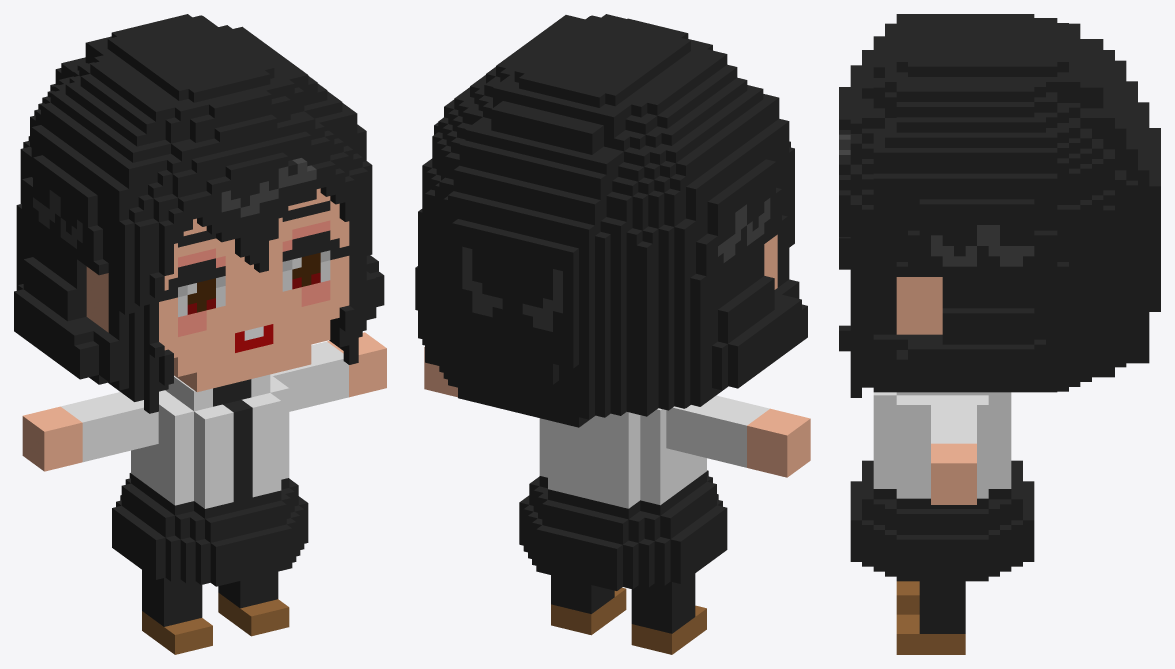
File: kid.fbx
3 renders of one model, left to right at view 1: azimuth 30°, elevation 25°; view 2: azimuth 150°, elevation 25°; view 3: azimuth 270°, elevation 25°, orthographic. The views are drawn at different scales.
Parts seen in each view (by area): view 1: character_4; view 2: character_4; view 3: character_4.
Part boxes in pixels (x1,y1,x2,y2): character_4: (14,14,386,654); character_4: (415,14,810,654); character_4: (839,14,1160,654).
Size of the model in its own units: 3600 by 5600 by 2800.
